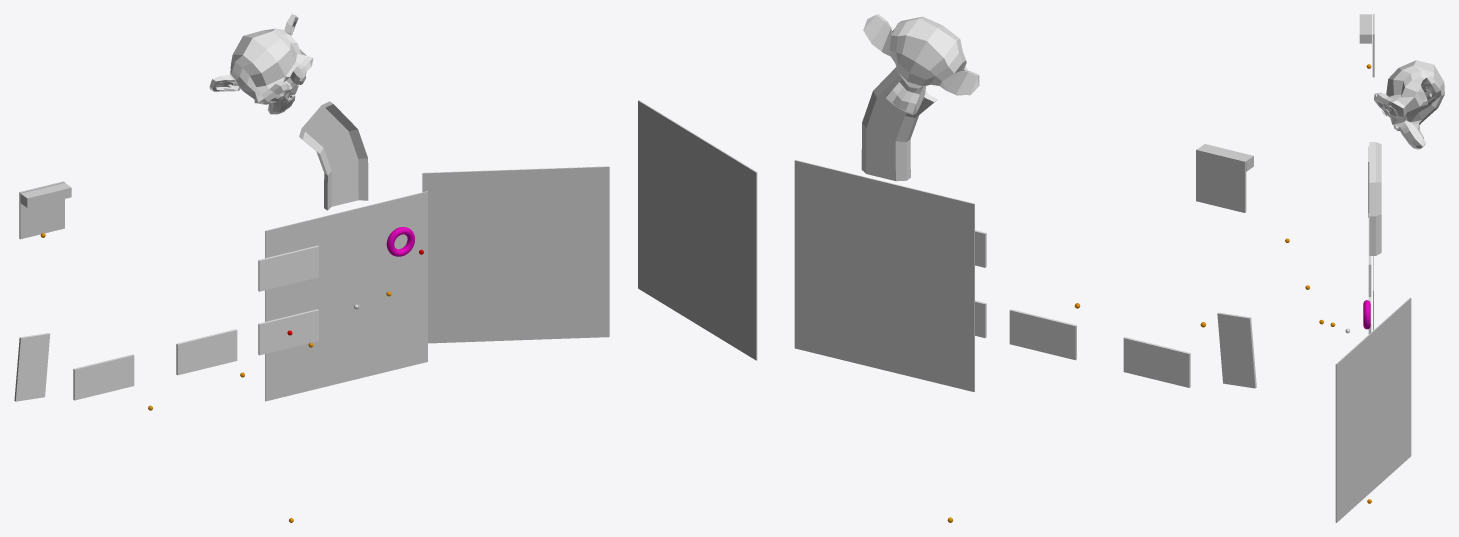
Rendered from level1.gltf.
3 views of the same model, side by side, from view 1: azimuth 30°, elevation 25°; view 2: azimuth 150°, elevation 25°; view 3: azimuth 270°, elevation 25° (orthographic). The views are drawn at different scales.
Parts seen in each view (by area): view 1: Cube.004, Cube.002, Suzanne, Cube, platform.002, platform.003, platform, platform.004, platform.001, Cube.001, Cube.003; view 2: Cube.002, Cube.004, Suzanne, Cube, Cube.001, platform, platform.003, platform.002; view 3: Cube.004, Suzanne, Cube, Cube.003, fan.
Boxes of the visible parts, x1,y1,x2,y2 form: Cube.004: [422, 166, 609, 343]; Cube.002: [265, 191, 427, 401]; Suzanne: [209, 14, 313, 114]; Cube: [299, 101, 368, 210]; platform.002: [176, 329, 237, 375]; platform.003: [73, 354, 134, 400]; platform: [14, 333, 50, 401]; platform.004: [258, 245, 318, 291]; platform.001: [258, 309, 318, 355]; Cube.001: [19, 181, 64, 239]; Cube.003: [20, 183, 71, 207]; Cube.002: [794, 160, 974, 391]; Cube.004: [638, 100, 757, 360]; Suzanne: [863, 14, 979, 114]; Cube: [861, 67, 937, 181]; Cube.001: [1196, 149, 1246, 212]; platform: [1217, 312, 1256, 388]; platform.003: [1123, 337, 1190, 387]; platform.002: [1009, 309, 1076, 360]; Cube.004: [1335, 297, 1411, 522]; Suzanne: [1374, 60, 1444, 149]; Cube: [1369, 142, 1381, 255]; Cube.003: [1359, 14, 1371, 43]; fan: [1363, 300, 1370, 329].
Size of what is drawn, in the model's own units: 1048 by 826 by 270.
